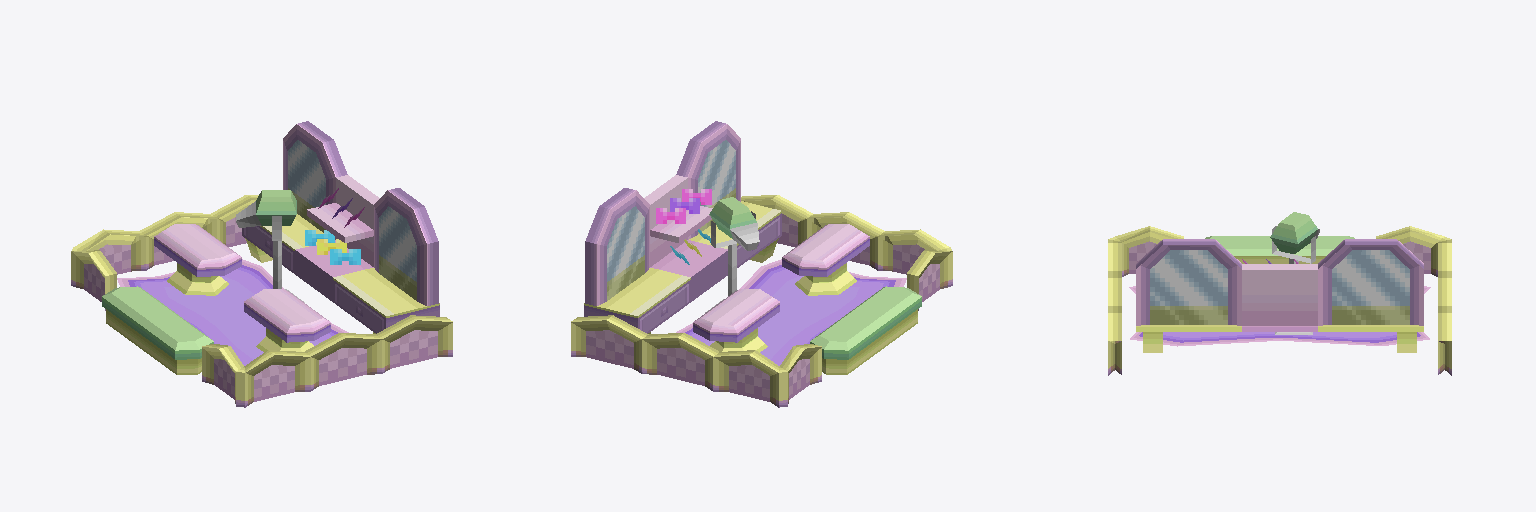
3 renders of one model, left to right at view 1: azimuth 30°, elevation 25°; view 2: azimuth 150°, elevation 25°; view 3: azimuth 270°, elevation 25°, orthographic.
Visible parts, largest first — view 1: polygon1; view 2: polygon1; view 3: polygon1.
Part boxes in pixels (x1,y1,x2,y2): polygon1: (71,121,452,407); polygon1: (571,121,952,407); polygon1: (1108,212,1451,375).
Bounding box in the file's own units: 9.88 × 5.25 × 13.
Materials: 2 (2 with a texture image).